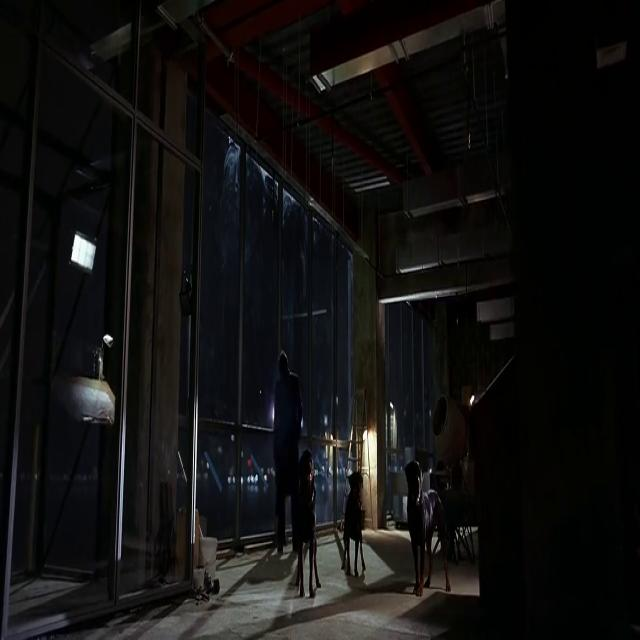People: (264, 340, 300, 490)
dog: (398, 477, 476, 640), (293, 431, 333, 615), (342, 449, 371, 594)
